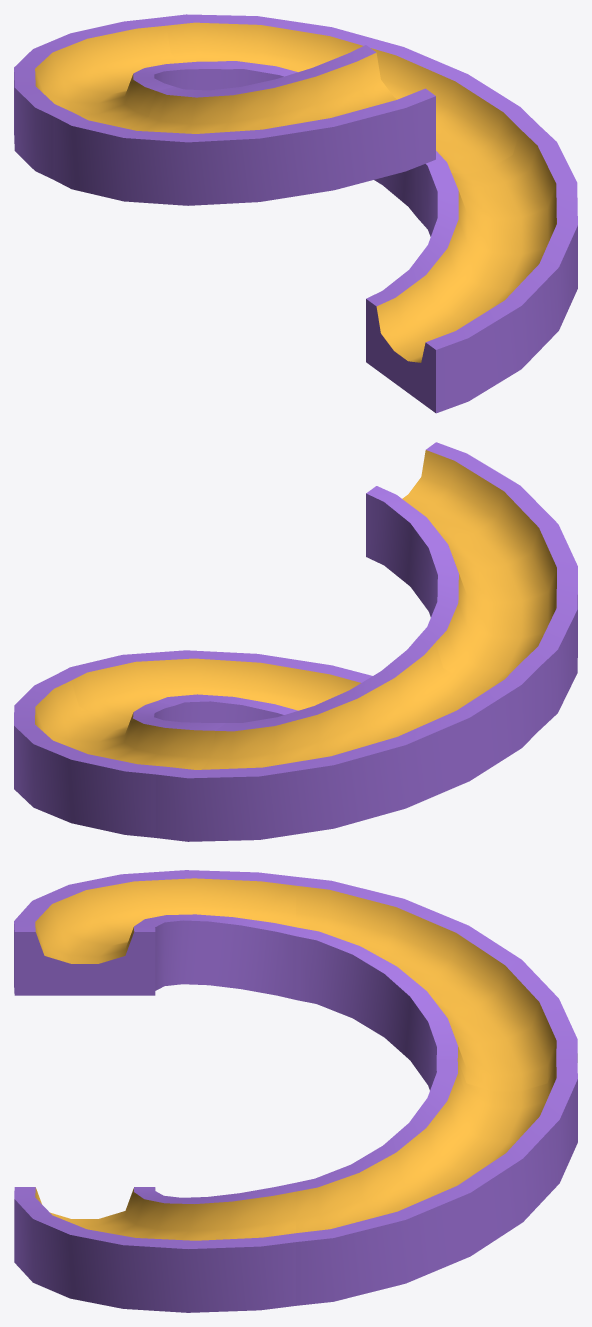
Rendered from helix-left-col.glb.
3 renders of one model, top to bottom at view 1: azimuth 30°, elevation 25°; view 2: azimuth 150°, elevation 25°; view 3: azimuth 270°, elevation 25°, orthographic.
Parts seen in each view (by area): view 1: helix-left-col; view 2: helix-left-col; view 3: helix-left-col.
Boxes of the visible parts, bbox=[...] form: helix-left-col: bbox=[14, 14, 577, 413]; helix-left-col: bbox=[14, 442, 577, 841]; helix-left-col: bbox=[14, 870, 577, 1312].
Size of the model in its own units: 4.01 by 2.5 by 4.01.
Materials: 1 (1 with a texture image).
